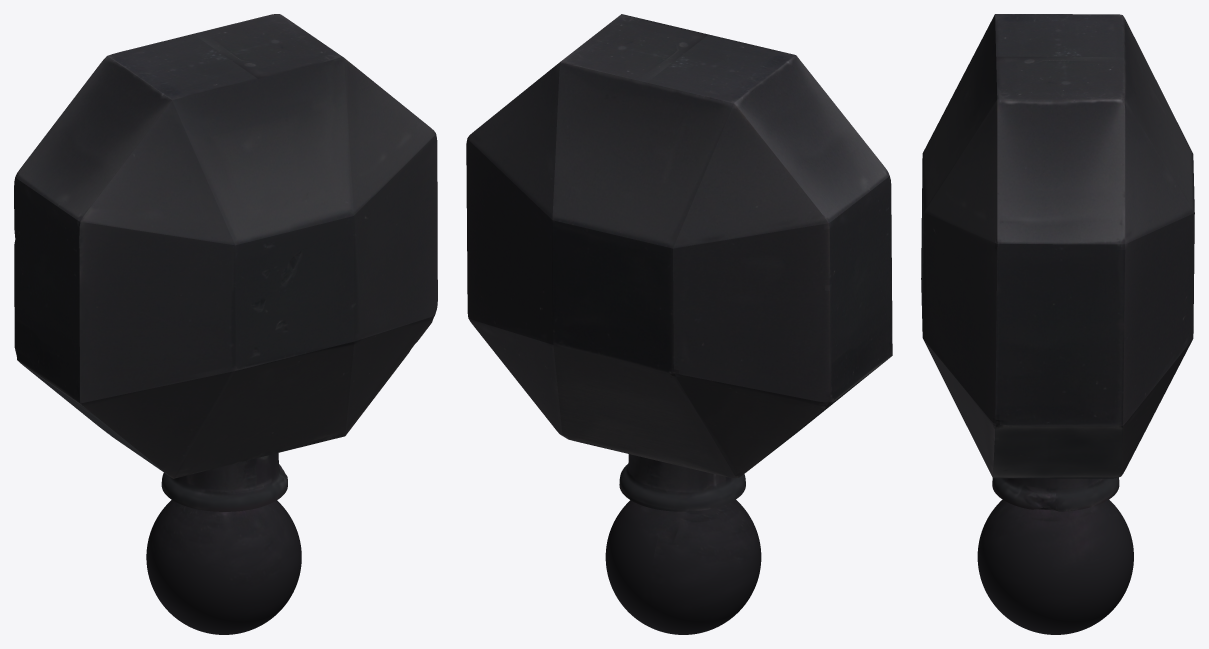
Rendered from ornamental_modernist.glb.
3 views of the same model, side by side, from view 1: azimuth 30°, elevation 25°; view 2: azimuth 150°, elevation 25°; view 3: azimuth 270°, elevation 25° (orthographic).
Visible parts, largest first — view 1: Bottle; view 2: Bottle; view 3: Bottle.
Part boxes in pixels (box(x1,y1,x2,y2)): Bottle: box(14, 14, 437, 634); Bottle: box(466, 14, 892, 634); Bottle: box(921, 14, 1194, 634).
Size of what is drawn, in the model's own units: 0.6655 by 1 by 0.4326.
Materials: 1 (1 with a texture image).
